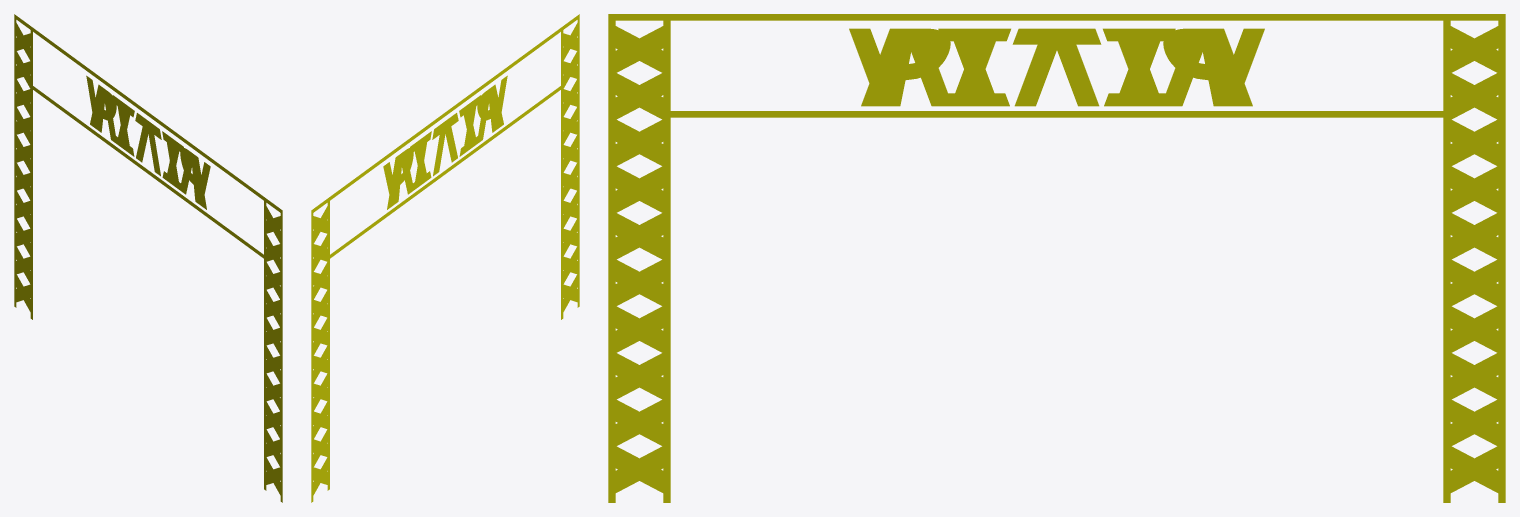
The model's file is Sign_PitIn.fbx.
3 renders of one model, left to right at view 1: azimuth 30°, elevation 25°; view 2: azimuth 150°, elevation 25°; view 3: azimuth 270°, elevation 25°, orthographic. The views are drawn at different scales.
Visible parts, largest first — view 1: Sign_PitIn; view 2: Sign_PitIn; view 3: Sign_PitIn.
Boxes of the visible parts, x1,y1,x2,y2 form: Sign_PitIn: (14,14,282,502); Sign_PitIn: (311,14,579,502); Sign_PitIn: (608,14,1505,502).
Bounding box in the file's own units: 3.05e-05 × 522 × 868.
